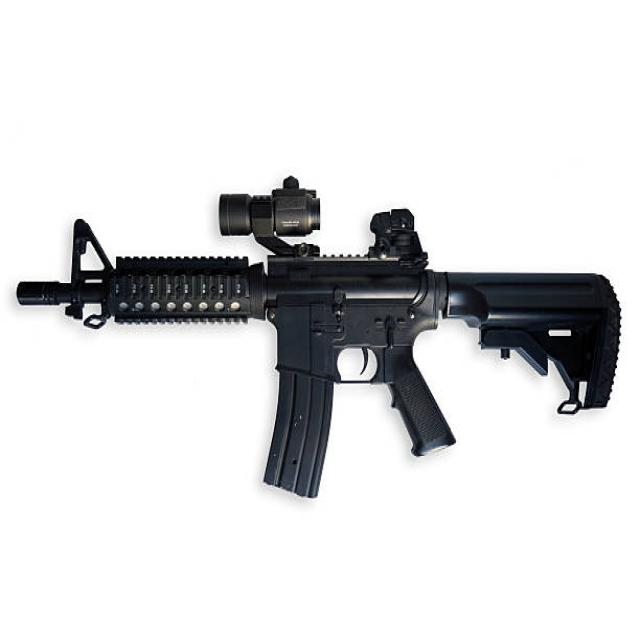rifle: (7, 161, 628, 516)
